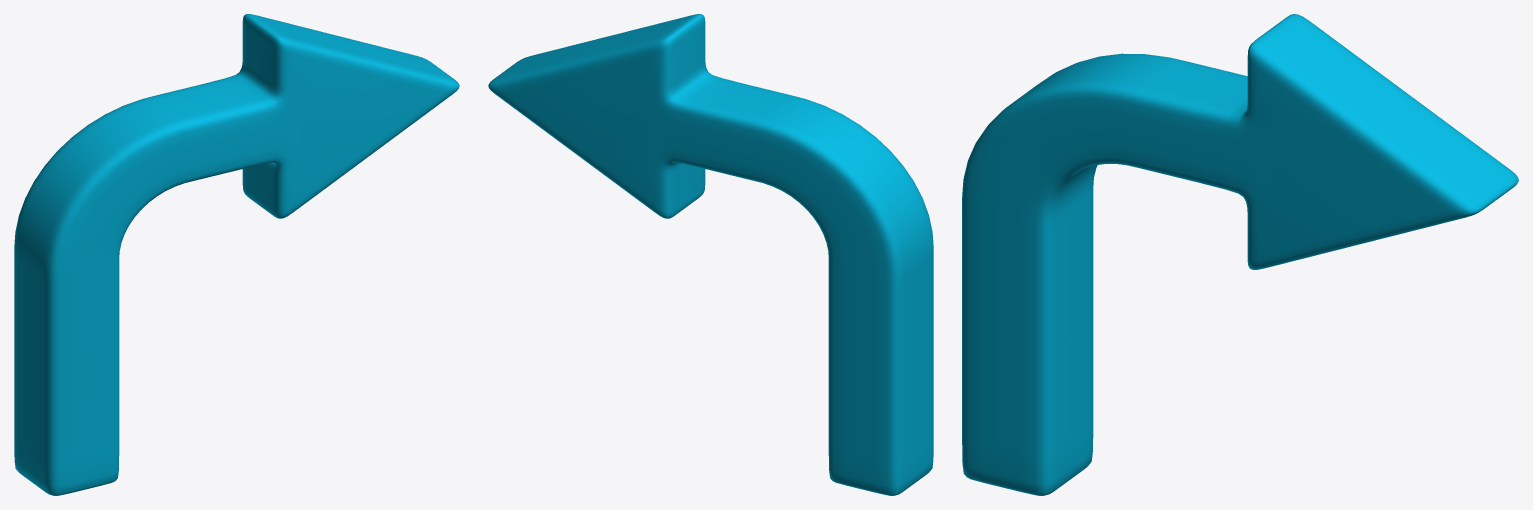
The model's file is RightArrowSmooth.glb.
3 renders of one model, left to right at view 1: azimuth 30°, elevation 25°; view 2: azimuth 150°, elevation 25°; view 3: azimuth 330°, elevation 25°, orthographic. The views are drawn at different scales.
Parts seen in each view (by area): view 1: Rught_Arrow; view 2: Rught_Arrow; view 3: Rught_Arrow.
Part boxes in pixels (x1,y1,x2,y2): Rught_Arrow: (14,14,459,495); Rught_Arrow: (488,14,933,495); Rught_Arrow: (962,14,1518,495).
Bounding box in the file's own units: 4.58 × 4.28 × 0.8.
